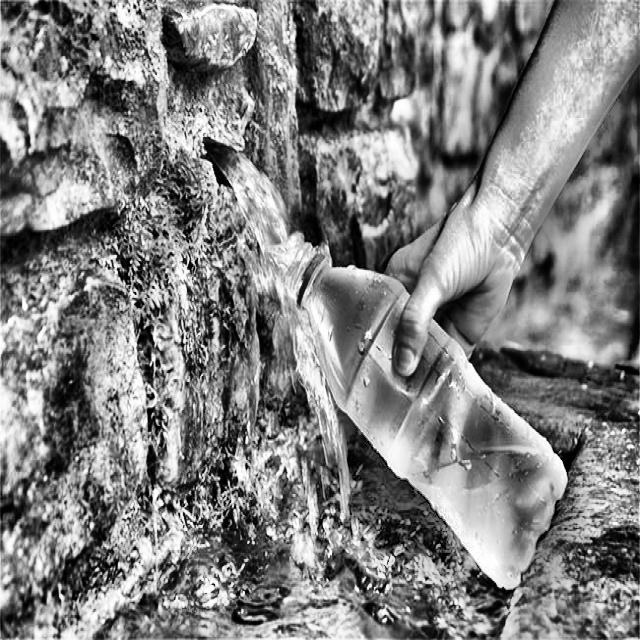waterbottle: (297, 252, 568, 589)
